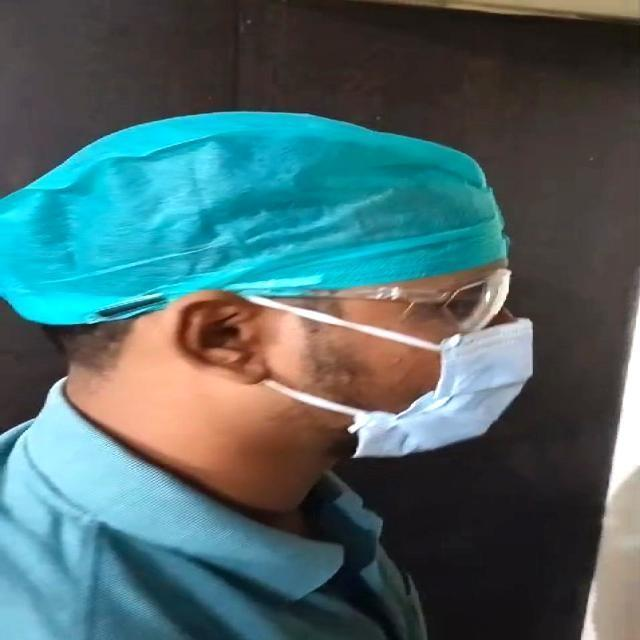gloves: (0, 103, 526, 345)
mask: (310, 322, 534, 476)
